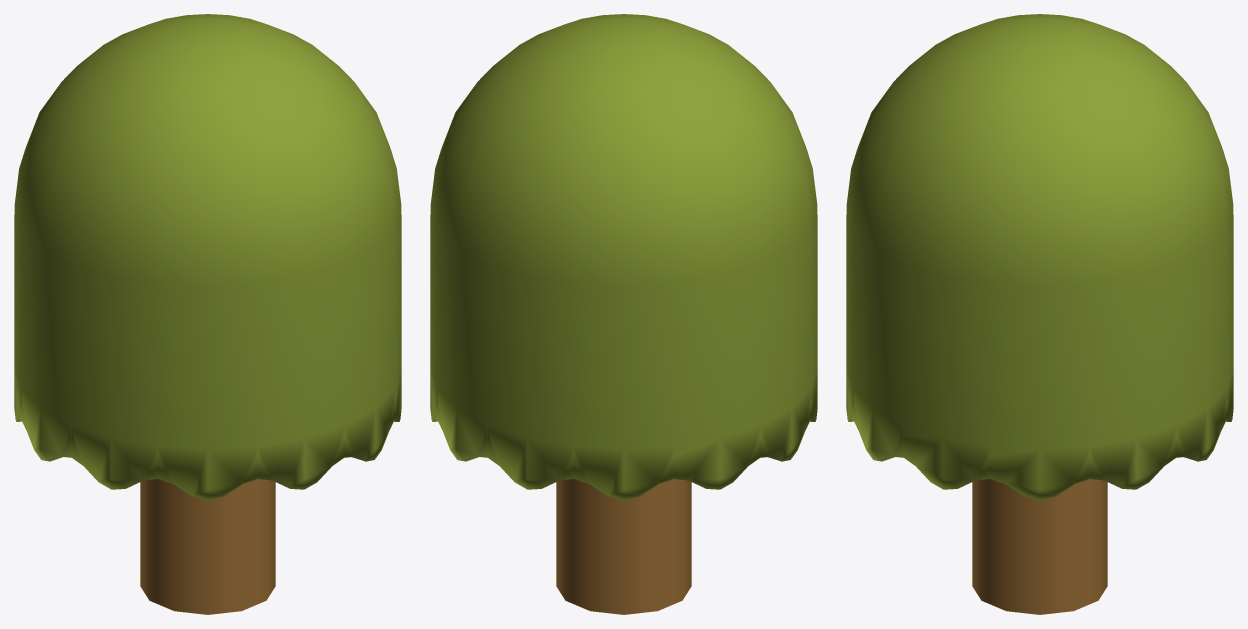
Rendered from tree1.fbx.
3 renders of one model, left to right at view 1: azimuth 30°, elevation 25°; view 2: azimuth 150°, elevation 25°; view 3: azimuth 270°, elevation 25°, orthographic.
Visible parts, largest first — view 1: tree; view 2: tree; view 3: tree.
Boxes of the visible parts, box(x1,y1,x2,y2) form: tree: box(14, 14, 401, 614); tree: box(430, 14, 817, 614); tree: box(846, 14, 1233, 614).
Bounding box in the file's own units: 146 × 230 × 146.
